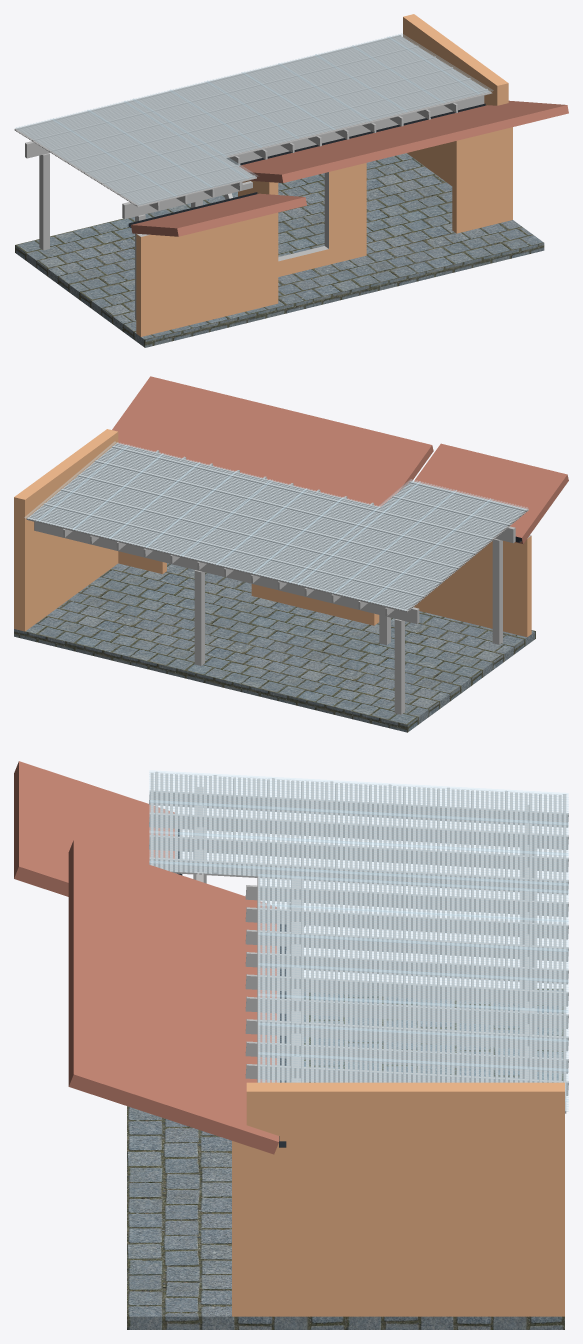
The model's file is Pergola_layers.gltf.
3 views of the same model, one above another, from view 1: azimuth 30°, elevation 25°; view 2: azimuth 150°, elevation 25°; view 3: azimuth 270°, elevation 25° (orthographic). The views are drawn at different scales.
Parts seen in each view (by area): view 1: Pergola_Concept_A_BH_WAVE_5_EDITABLE_EDITED_LATHS_SUNTUF_FIN; view 2: Pergola_Concept_A_BH_WAVE_5_EDITABLE_EDITED_LATHS_SUNTUF_FIN; view 3: Pergola_Concept_A_BH_WAVE_5_EDITABLE_EDITED_LATHS_SUNTUF_FIN.
Part boxes in pixels (<box>): Pergola_Concept_A_BH_WAVE_5_EDITABLE_EDITED_LATHS_SUNTUF_FIN: <box>14,14,568,347</box>; Pergola_Concept_A_BH_WAVE_5_EDITABLE_EDITED_LATHS_SUNTUF_FIN: <box>14,376,568,732</box>; Pergola_Concept_A_BH_WAVE_5_EDITABLE_EDITED_LATHS_SUNTUF_FIN: <box>14,761,568,1329</box>.
Bounding box in the file's own units: 10.83 × 3.96 × 7.6.
